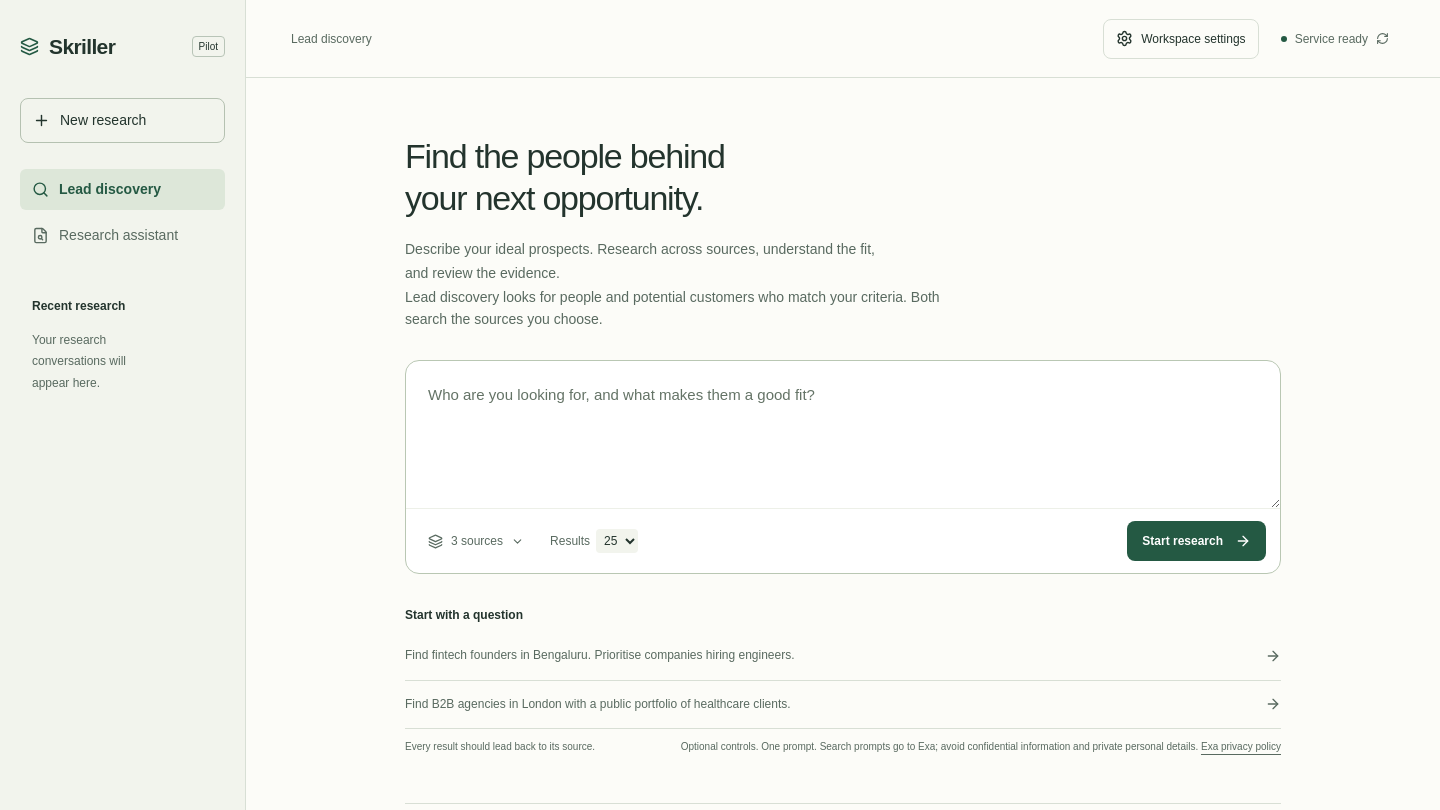
Test: research workbench › keeps account panels distinct when submitting the reported founder prompt
Expected: the button "Start research" is enabled, [1127,521,1266,561]
Type "Find fintech founders in Bengaluru. Prioritise companies hiring engineers." into the text box named "Research prompt". click: [843, 435]
box: [406,361,1280,508]
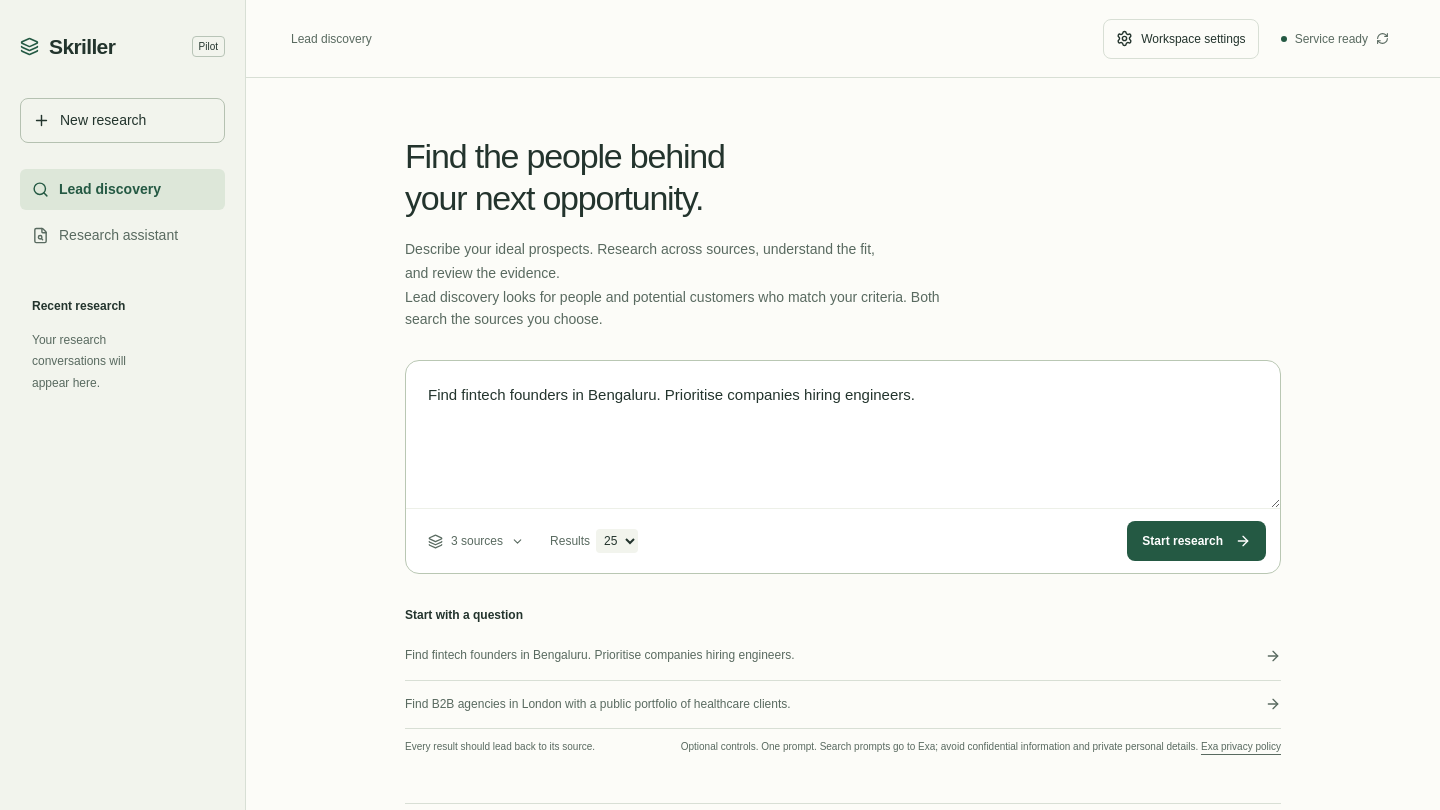
Click the button "Start research". click: [1197, 541]
box: [1127,521,1266,561]
(page scrolled)
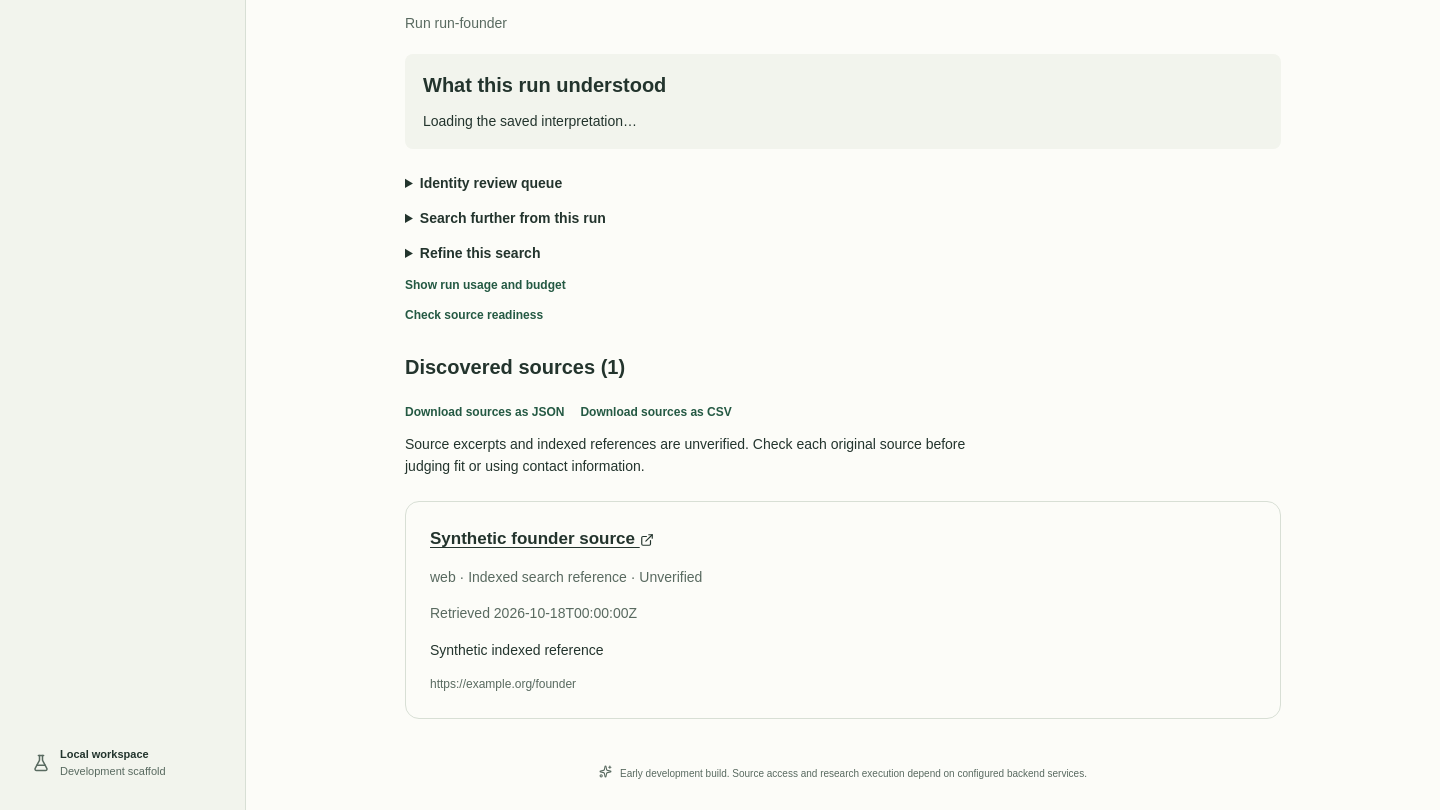
Result: the link "Synthetic founder source" is shown at [430,529,654,548]
Result: the button "Download sources as CSV" is shown at [580,403,732,421]
Result: the button "Download sources as JSON" is shown at [405,403,564,421]
